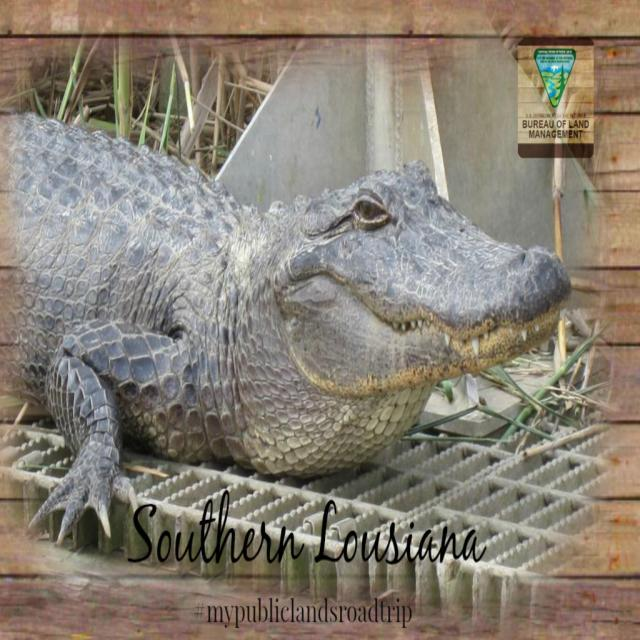crocodile: (0, 107, 576, 541)
